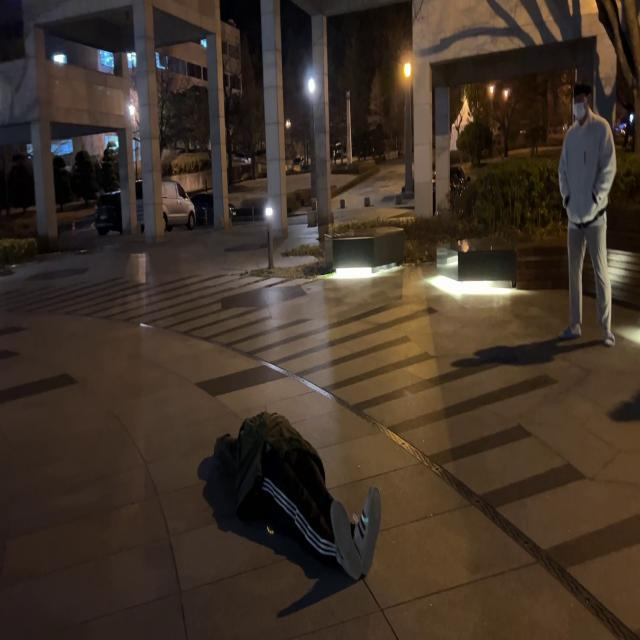Fall: (215, 413, 381, 580)
Stand: (560, 85, 618, 346)
